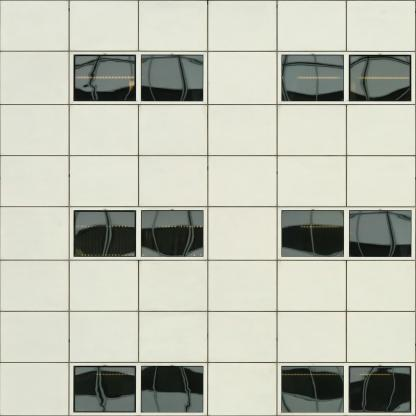Building Outline: (1, 0, 416, 416)
Facade: (1, 0, 416, 416)
Floor: (0, 157, 416, 300), (1, 1, 416, 144), (0, 311, 415, 415)
Floor Slab: (1, 299, 415, 312), (1, 144, 415, 156)
Window: (349, 54, 411, 102), (282, 54, 344, 102), (141, 54, 203, 102), (74, 54, 136, 102), (349, 366, 411, 413), (282, 366, 344, 413), (141, 366, 203, 413), (74, 366, 136, 413), (349, 210, 411, 257), (282, 210, 344, 257), (141, 210, 203, 257), (74, 210, 136, 257)
